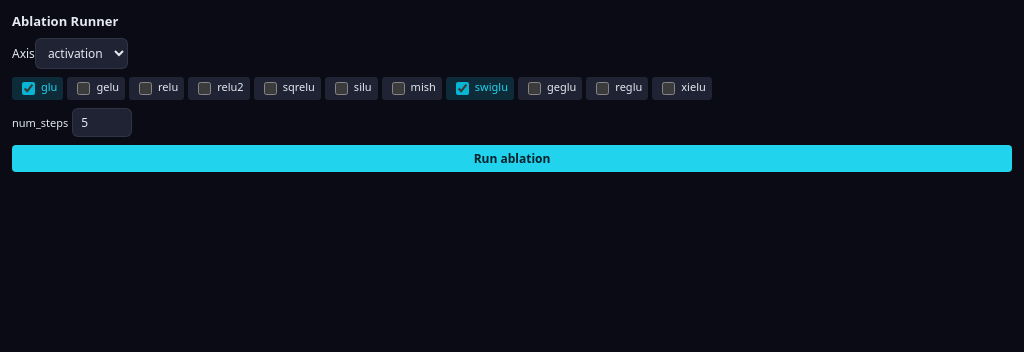
Test case: AblationsTab › H14: expand row reveals extras subtree with losses + per-key rows
Step 1. Click the button with test id "ablation-run" → (512, 158), box [12,145,1012,172]
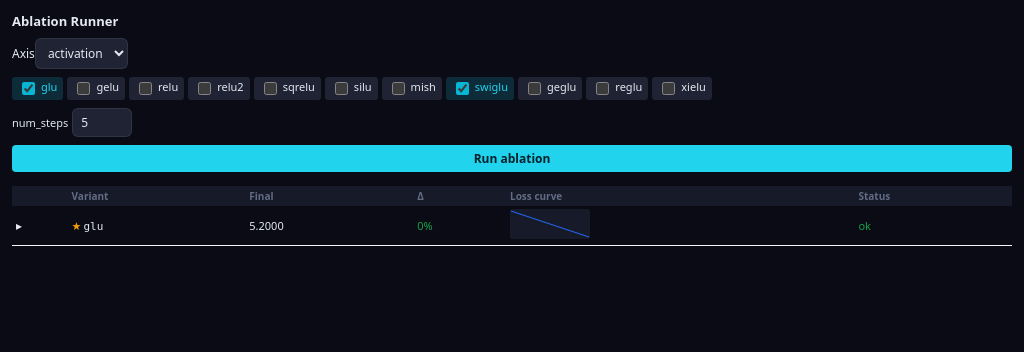
Now the row with test id "ablation-row-glu" is shown, box [12,206,1012,246]
# Click expand → extras row appears with per-key testids.
Step 2. Click the button with test id "ablation-row-glu-expand" → (19, 226), box [16,217,22,234]
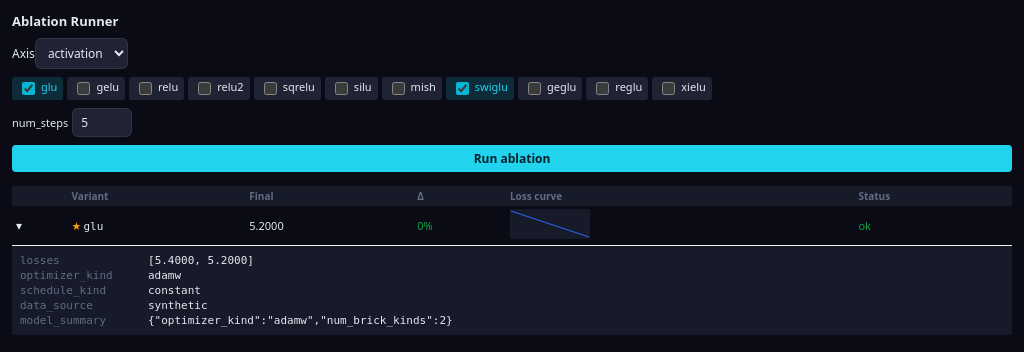
Now the row with test id "ablation-row-glu-extras" is shown, box [12,246,1012,335]
Now the text with test id "ablation-row-glu-losses" shows "5.4000", box [155,254,247,267]
Now the text with test id "ablation-row-glu-extras-optimizer_kind" reads "adamw", box [148,269,181,282]
